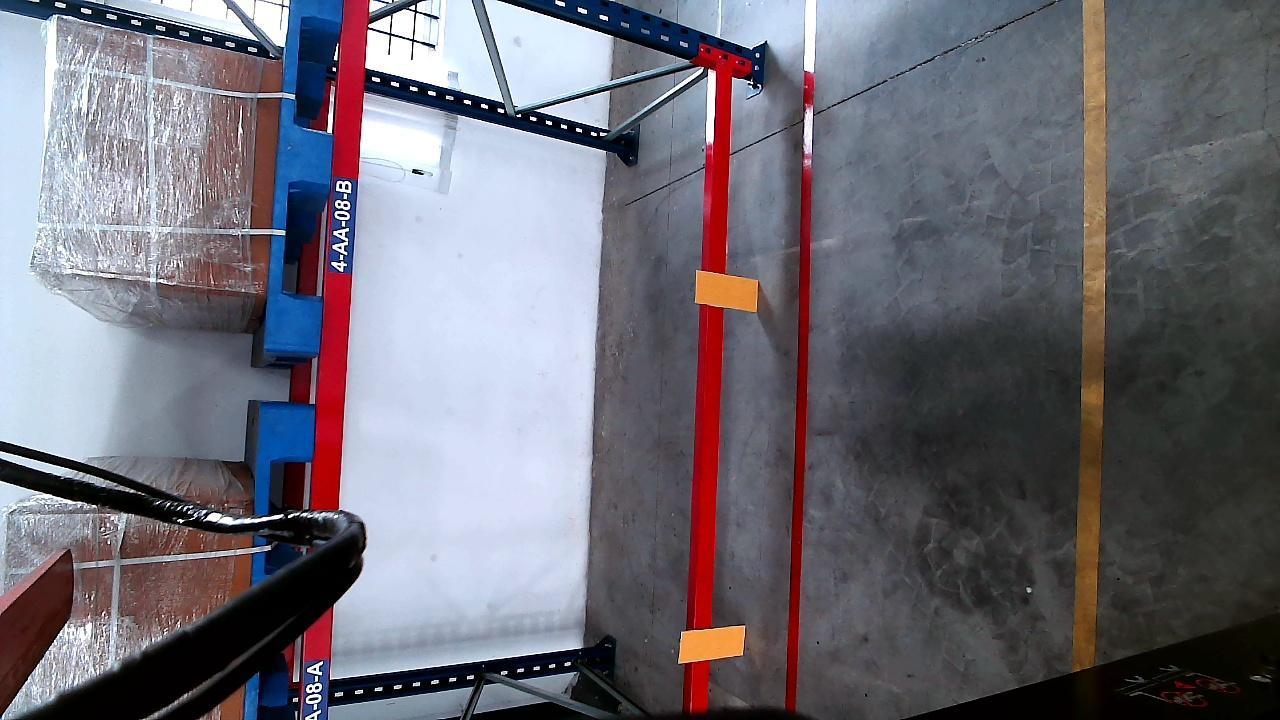red_line: (781, 1, 817, 711)
yellow_line: (1077, 0, 1105, 671)
